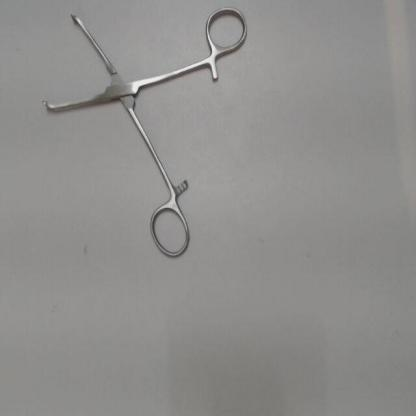Allis Tissue Forceps: (37, 5, 251, 264)
